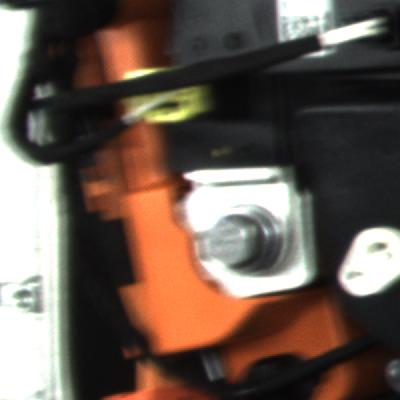nut_b: (193, 198, 298, 287)
